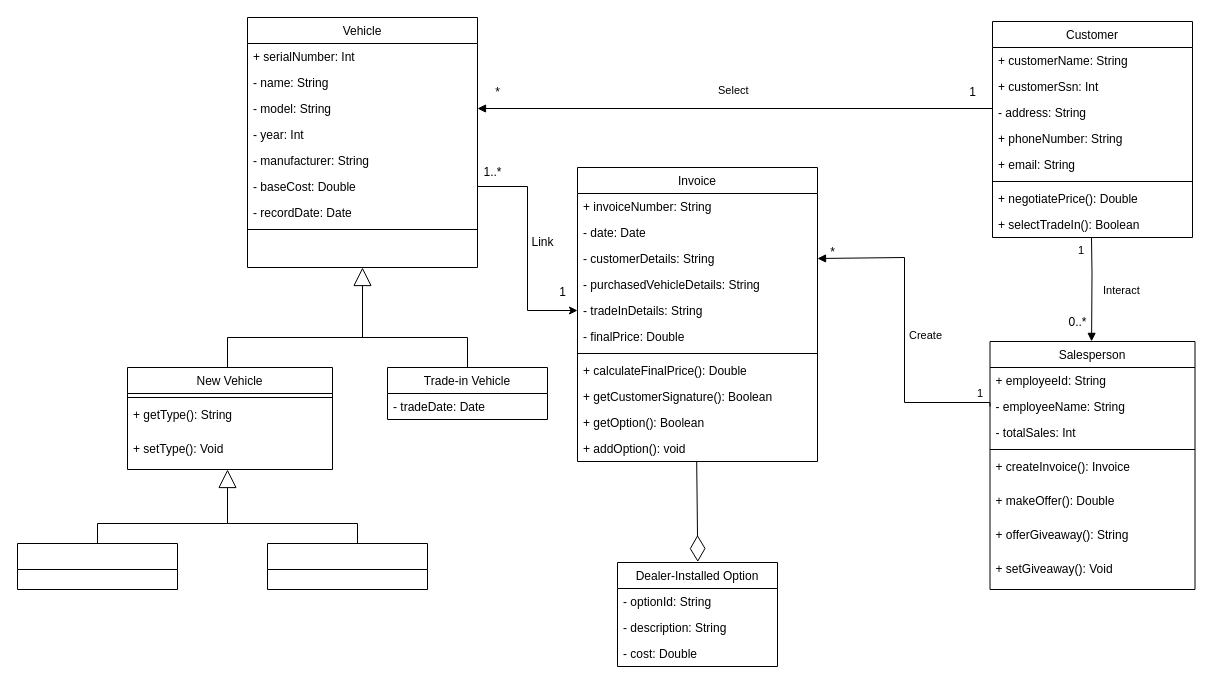
Some shapes in this 1213 by 687 pixel diagram are drawn without their labels. Here are the shapes that lost their labels. From the top down, the centre of each, then its label:
(x=97, y=566): Recreational Vehicle
(x=347, y=566): Travel Trailer
